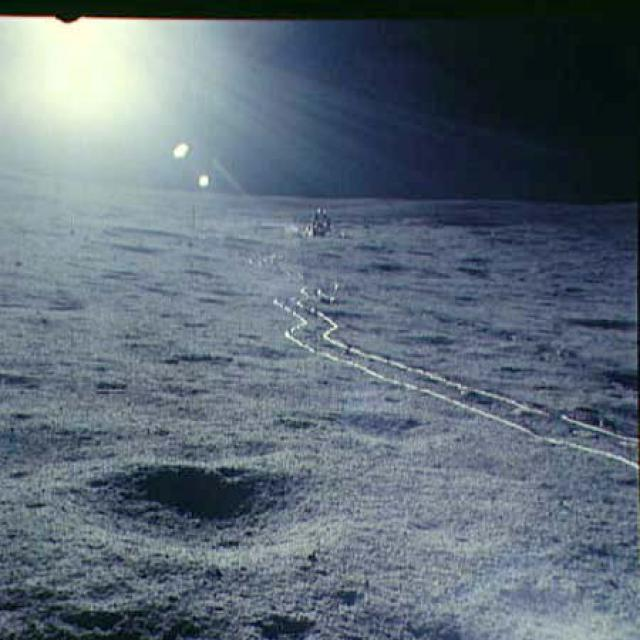crater: (50, 442, 358, 580), (300, 385, 474, 461), (0, 271, 115, 320), (560, 296, 639, 359), (142, 374, 236, 408), (155, 343, 253, 373), (0, 357, 58, 407), (84, 369, 136, 397)
